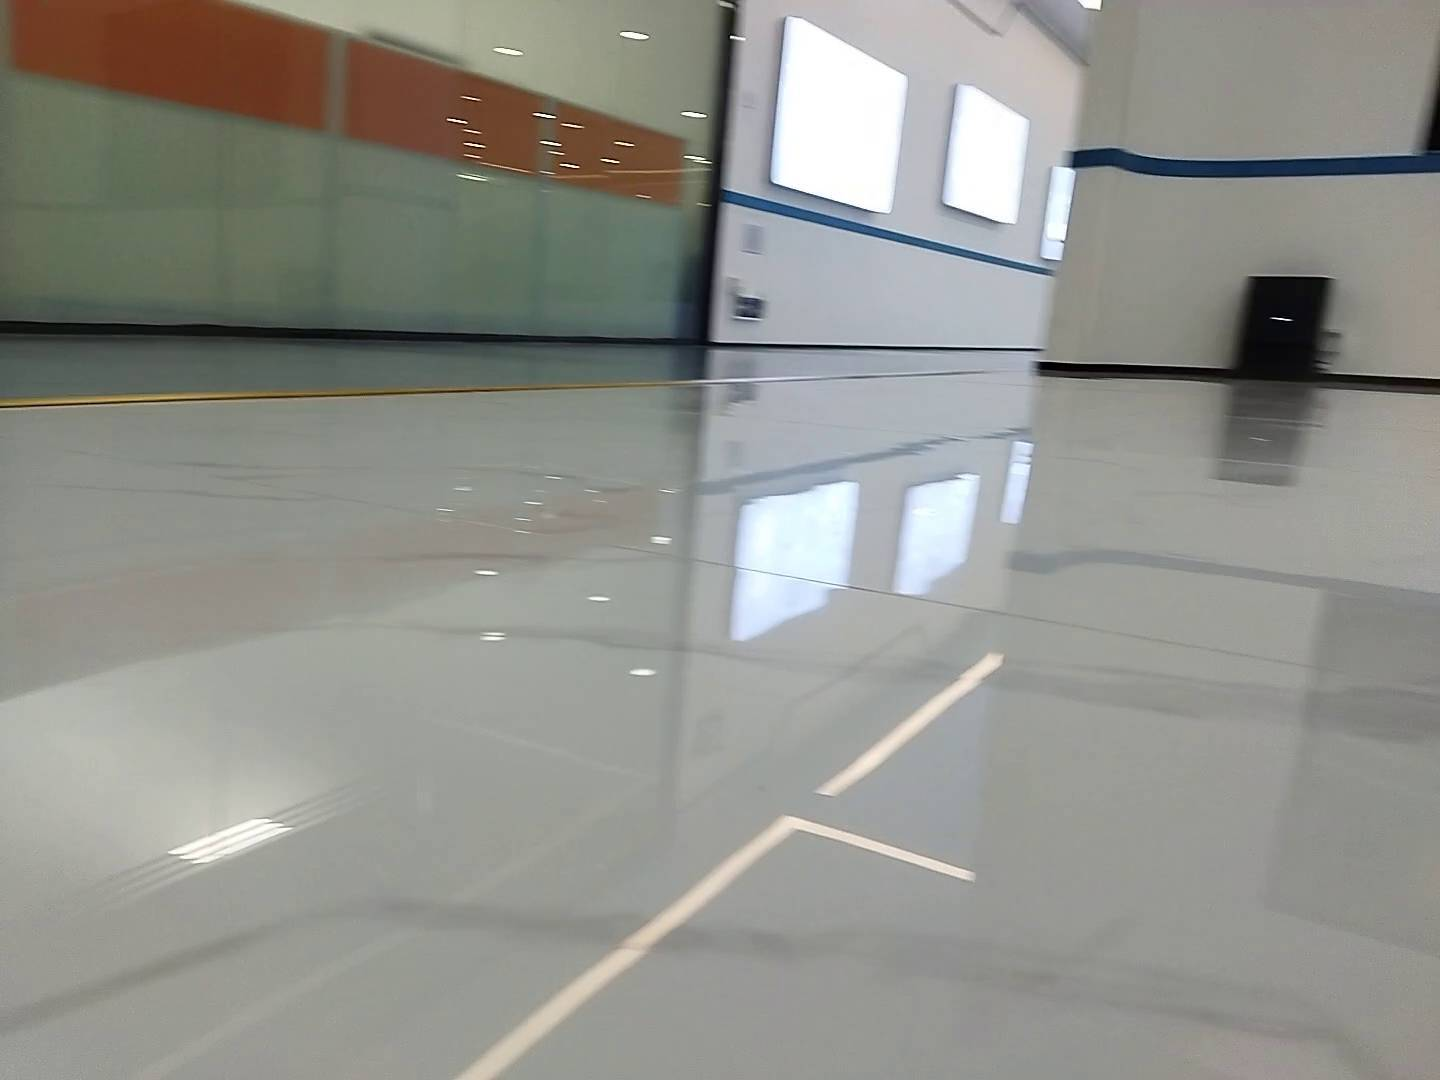dust collecting barrel: (1203, 275, 1329, 385)
